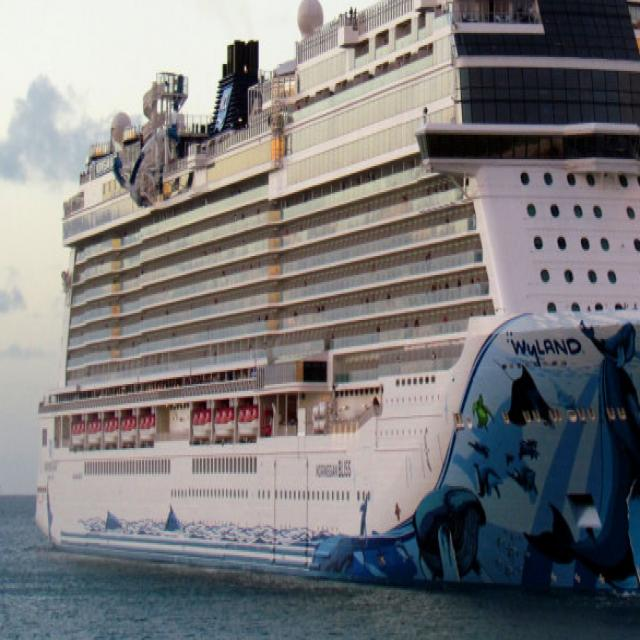cruises: (37, 1, 640, 636)
